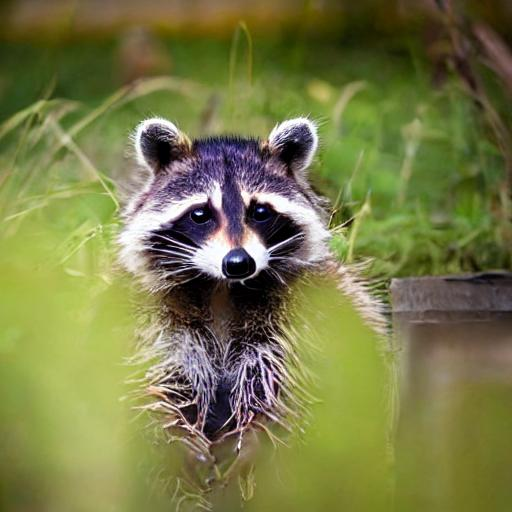raccoon: (86, 102, 395, 512)
